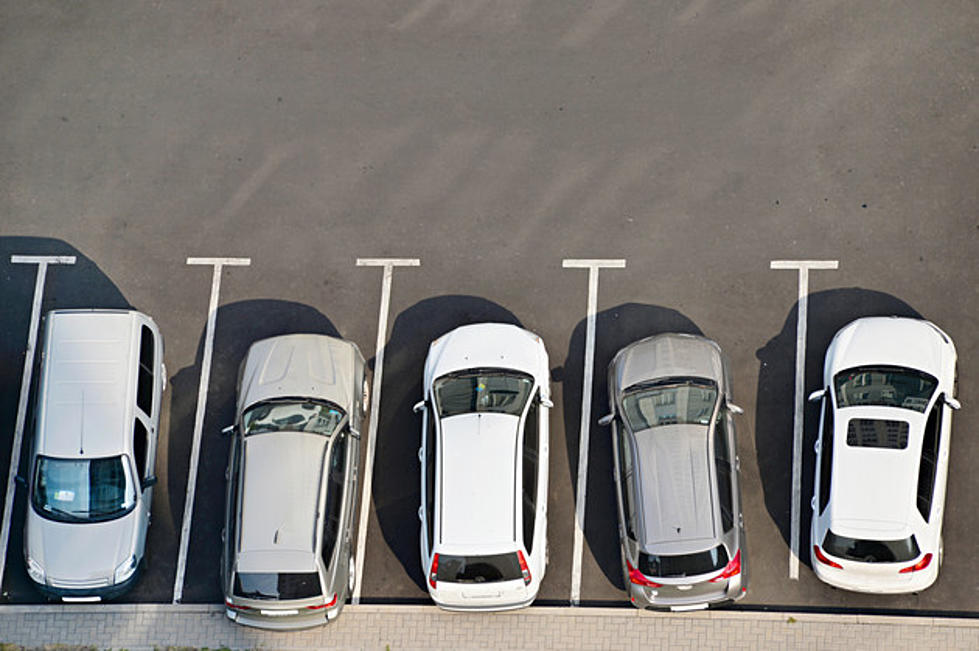Car: (216, 327, 379, 631), (597, 315, 757, 623), (15, 301, 170, 602), (805, 308, 960, 603), (410, 319, 557, 612)
LaneMark: (174, 265, 222, 599), (565, 269, 601, 604), (784, 270, 812, 596), (1, 415, 27, 538), (373, 269, 396, 403), (8, 315, 38, 415), (364, 404, 385, 495), (5, 252, 78, 274), (356, 497, 368, 599), (768, 258, 844, 273), (562, 257, 629, 273), (31, 263, 51, 315), (353, 256, 426, 270), (184, 256, 254, 266)
